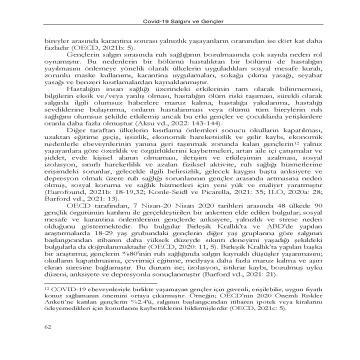footer: (44, 285, 327, 313)
header: (141, 16, 227, 24)
